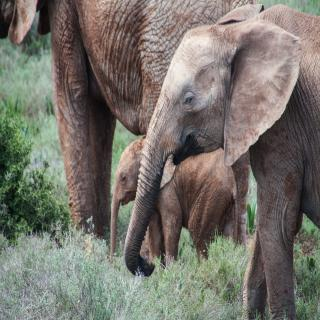Elephant: (121, 4, 320, 320), (107, 132, 241, 276)
